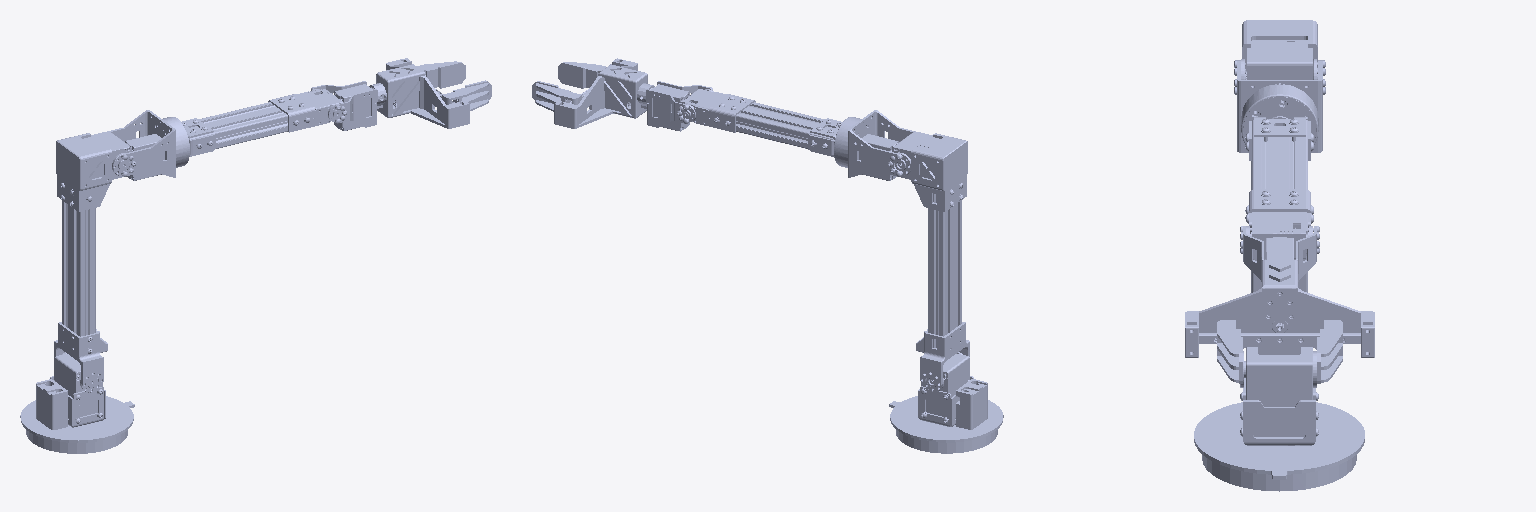
URDF robot description (cello_description):
<?xml version="1.0" encoding="utf-8"?>
<!-- This URDF was automatically created by SolidWorks to URDF Exporter! Originally created by [author] ([email redacted]) 
     Commit Version: 1.6.0-4-g7f85cfe  Build Version: 1.6.7995.38578
     For more information, please see http://wiki.ros.org/sw_urdf_exporter -->
<robot
  name="cello_description">
      <!-- 添加虚拟根链接 -->
  <link name="leader_frame"/>

  <!-- 添加固定关节 -->
  <joint name="lf_to_base" type="fixed">
    <parent link="leader_frame"/>
    <child link="base_link"/>
    <origin xyz="0 0 0" rpy="0 0 0"/>
  </joint>
  <link
    name="base_link">
    <inertial>
      <origin
        xyz="-0.0185665958404603 0.000316871997730457 0.0207703344124258"
        rpy="0 0 0" />
      <mass
        value="0.860146104012974" />
      <inertia
        ixx="0.00164232799354085"
        ixy="-1.59502029846143E-06"
        ixz="6.71840186611878E-06"
        iyy="0.00170608787386237"
        iyz="-2.52071114190922E-06"
        izz="0.00312628775872308" />
    </inertial>
    <visual>
      <origin
        xyz="0 0 0"
        rpy="0 0 0" />
      <geometry>
        <mesh
          filename="package://cello_description/meshes/base_link.STL" />
      </geometry>
      <material
        name="">
        <color
          rgba="0.79216 0.81961 0.93333 1" />
      </material>
    </visual>
    <collision>
      <origin
        xyz="0 0 0"
        rpy="0 0 0" />
      <geometry>
        <mesh
          filename="package://cello_description/meshes/base_link.STL" />
      </geometry>
    </collision>
  </link>
  <link
    name="link1">
    <inertial>
      <origin
        xyz="-0.00293659514388736 -0.000166267230976034 0.0304852649924009"
        rpy="0 0 0" />
      <mass
        value="0.21149263410611" />
      <inertia
        ixx="0.000143717201104114"
        ixy="3.66663819476992E-08"
        ixz="-1.62979838275744E-07"
        iyy="0.000130150440516928"
        iyz="2.18212572705133E-07"
        izz="0.000192189810714277" />
    </inertial>
    <visual>
      <origin
        xyz="0 0 0"
        rpy="0 0 0" />
      <geometry>
        <mesh
          filename="package://cello_description/meshes/link1.STL" />
      </geometry>
      <material
        name="">
        <color
          rgba="0.792156862745098 0.819607843137255 0.933333333333333 1" />
      </material>
    </visual>
    <collision>
      <origin
        xyz="0 0 0"
        rpy="0 0 0" />
      <geometry>
        <mesh
          filename="package://cello_description/meshes/link1.STL" />
      </geometry>
    </collision>
  </link>
  <joint
    name="joint1"
    type="revolute">
    <origin
      xyz="0 0 0.0635"
      rpy="0 0 0" />
    <parent
      link="base_link" />
    <child
      link="link1" />
    <axis
      xyz="0 0 -1" />
    <limit
      lower="-2.27"
      upper="2.27"
      effort="100"
      velocity="1" />
  </joint>
  <link
    name="link2">
    <inertial>
      <origin
        xyz="0.189226589139135 -0.0113695378695626 -1.6404195814043E-05"
        rpy="0 0 0" />
      <mass
        value="0.226428575799244" />
      <inertia
        ixx="9.22325814551319E-05"
        ixy="-3.05844203290063E-07"
        ixz="3.3911611831782E-08"
        iyy="0.000275608542120228"
        iyz="1.47692248123962E-07"
        izz="0.000266467551887347" />
    </inertial>
    <visual>
      <origin
        xyz="0 0 0"
        rpy="0 0 0" />
      <geometry>
        <mesh
          filename="package://cello_description/meshes/link2.STL" />
      </geometry>
      <material
        name="">
        <color
          rgba="0.792156862745098 0.819607843137255 0.933333333333333 1" />
      </material>
    </visual>
    <collision>
      <origin
        xyz="0 0 0"
        rpy="0 0 0" />
      <geometry>
        <mesh
          filename="package://cello_description/meshes/link2.STL" />
      </geometry>
    </collision>
  </link>
  <joint
    name="joint2"
    type="revolute">
    <origin
      xyz="0.00220000000000002 0 0.0638"
      rpy="1.5707963267949 -1.5707963267949 0" />
    <parent
      link="link1" />
    <child
      link="link2" />
    <axis
      xyz="0 0 -1" />
    <limit
      lower="-1.57"
      upper="1.57"
      effort="100"
      velocity="1" />
  </joint>
  <link
    name="link3">
    <inertial>
      <origin
        xyz="0.0611057027698938 -0.00285373563465835 -0.000308179387542536"
        rpy="0 0 0" />
      <mass
        value="0.0623016674269844" />
      <inertia
        ixx="3.27641771814371E-05"
        ixy="1.36991125224236E-07"
        ixz="5.03629347294518E-11"
        iyy="2.8138233772221E-05"
        iyz="-2.07089691935365E-12"
        izz="2.00711122359931E-05" />
    </inertial>
    <visual>
      <origin
        xyz="0 0 0"
        rpy="0 0 0" />
      <geometry>
        <mesh
          filename="package://cello_description/meshes/link3.STL" />
      </geometry>
      <material
        name="">
        <color
          rgba="0.792156862745098 0.819607843137255 0.933333333333333 1" />
      </material>
    </visual>
    <collision>
      <origin
        xyz="0 0 0"
        rpy="0 0 0" />
      <geometry>
        <mesh
          filename="package://cello_description/meshes/link3.STL" />
      </geometry>
    </collision>
  </link>
  <joint
    name="joint3"
    type="revolute">
    <origin
      xyz="0.2476 -0.0396 0"
      rpy="0 0 -1.5708" />
    <parent
      link="link2" />
    <child
      link="link3" />
    <axis
      xyz="0 0 -1" />
    <limit
      lower="-1.57"
      upper="1.57"
      effort="100"
      velocity="1" />
  </joint>
  <link
    name="link4">
    <inertial>
      <origin
        xyz="0.000745555247011143 -0.000138360041998189 -0.106220756274278"
        rpy="0 0 0" />
      <mass
        value="0.0831858188735885" />
      <inertia
        ixx="0.000102578634806798"
        ixy="3.36167527477378E-08"
        ixz="1.6014343413356E-07"
        iyy="9.27604150962016E-05"
        iyz="9.03345793296017E-09"
        izz="1.82817305345178E-05" />
    </inertial>
    <visual>
      <origin
        xyz="0 0 0"
        rpy="0 0 0" />
      <geometry>
        <mesh
          filename="package://cello_description/meshes/link4.STL" />
      </geometry>
      <material
        name="">
        <color
          rgba="0.792156862745098 0.819607843137255 0.933333333333333 1" />
      </material>
    </visual>
    <collision>
      <origin
        xyz="0 0 0"
        rpy="0 0 0" />
      <geometry>
        <mesh
          filename="package://cello_description/meshes/link4.STL" />
      </geometry>
    </collision>
  </link>
  <joint
    name="joint4"
    type="revolute">
    <origin
      xyz="0.267124999999999 -0.00308000000000425 0"
      rpy="1.5707963267949 0 1.5707963267949" />
    <parent
      link="link3" />
    <child
      link="link4" />
    <axis
      xyz="0 0 -1" />
    <limit
      lower="-2.27"
      upper="2.27"
      effort="100"
      velocity="1" />
  </joint>
  <link
    name="link5">
    <inertial>
      <origin
        xyz="-0.00767914962421362 -0.030181521070214 -0.00029872886431521"
        rpy="0 0 0" />
      <mass
        value="0.0181852018389062" />
      <inertia
        ixx="4.56965782990531E-06"
        ixy="-6.955617524318E-07"
        ixz="-2.59810714053144E-13"
        iyy="4.73221658107135E-06"
        iyz="-5.08961649687371E-11"
        izz="4.79023492543246E-06" />
    </inertial>
    <visual>
      <origin
        xyz="0 0 0"
        rpy="0 0 0" />
      <geometry>
        <mesh
          filename="package://cello_description/meshes/link5.STL" />
      </geometry>
      <material
        name="">
        <color
          rgba="0.792156862745098 0.819607843137255 0.933333333333333 1" />
      </material>
    </visual>
    <collision>
      <origin
        xyz="0 0 0"
        rpy="0 0 0" />
      <geometry>
        <mesh
          filename="package://cello_description/meshes/link5.STL" />
      </geometry>
    </collision>
  </link>
  <joint
    name="joint5"
    type="revolute">
    <origin
      xyz="0 0 0"
      rpy="-1.5707963267949 0 0" />
    <parent
      link="link4" />
    <child
      link="link5" />
    <axis
      xyz="0 0 -1" />
    <limit
      lower="-1.57"
      upper="1.57"
      effort="100"
      velocity="1" />
  </joint>
  <link
    name="link6">
    <inertial>
      <origin
        xyz="-0.000329475027203992 0.00742369665426901 -0.0656755875584047"
        rpy="0 0 0" />
      <mass
        value="0.0539231941559604" />
      <inertia
        ixx="2.73524846835263E-05"
        ixy="-5.11378434619854E-08"
        ixz="-5.38863543981375E-08"
        iyy="8.14363187419384E-05"
        iyz="-3.75607498934119E-06"
        izz="7.03066761474059E-05" />
    </inertial>
    <visual>
      <origin
        xyz="0 0 0"
        rpy="0 0 0" />
      <geometry>
        <mesh
          filename="package://cello_description/meshes/link6.STL" />
      </geometry>
      <material
        name="">
        <color
          rgba="0.792156862745098 0.819607843137255 0.933333333333333 1" />
      </material>
    </visual>
    <collision>
      <origin
        xyz="0 0 0"
        rpy="0 0 0" />
      <geometry>
        <mesh
          filename="package://cello_description/meshes/link6.STL" />
      </geometry>
    </collision>
  </link>
  <joint
    name="joint6"
    type="revolute">
    <origin
      xyz="-0.00132500000000002 -0.170658355416465 0"
      rpy="1.5707963267949 -1.5707963267949 0" />
    <parent
      link="link5" />
    <child
      link="link6" />
    <axis
      xyz="0 0 -1" />
    <limit
      lower="-2.27"
      upper="2.27"
      effort="100"
      velocity="1" />
  </joint>
    <link
    name="link7_left">
    <inertial>
      <origin
        xyz="4.33087985037828E-05 -0.0210288805335849 0.032103054040318"
        rpy="0 0 0" />
      <mass
        value="0.0118967398398553" />
      <inertia
        ixx="1.53554000943577E-06"
        ixy="-6.15488946521603E-11"
        ixz="1.11598914157963E-22"
        iyy="8.5835663413382E-07"
        iyz="2.09480277751459E-07"
        izz="1.93904913603243E-06" />
    </inertial>
    <visual>
      <origin
        xyz="0 0 0"
        rpy="0 0 0" />
      <geometry>
        <mesh
          filename="package://cello_description/meshes/link7_left.STL" />
      </geometry>
      <material
        name="">
        <color
          rgba="0.792156862745098 0.819607843137255 0.933333333333333 1" />
      </material>
    </visual>
    <collision>
      <origin
        xyz="0 0 0"
        rpy="0 0 0" />
      <geometry>
        <mesh
          filename="package://cello_description/meshes/link7_left.STL" />
      </geometry>
    </collision>
  </link>
  <joint
    name="joint7_left"
    type="prismatic">
    <origin
      xyz="0 0.0136874999999999 0"
      rpy="1.5707963267949 0 -1.5707963267949" />
    <parent
      link="link6" />
    <child
      link="link7_left" />
    <axis
      xyz="0 0 1" />
    <limit
      lower="-0.025"
      upper="0"
      effort="5"
      velocity="3.14" />
  </joint>
  <link
    name="link7_right">
    <inertial>
      <origin
        xyz="-4.33087985039493E-05 -0.0210288805335849 -0.0312030540403159"
        rpy="0 0 0" />
      <mass
        value="0.0118967398398553" />
      <inertia
        ixx="1.53554000943577E-06"
        ixy="6.15488946515676E-11"
        ixz="9.36189170111426E-23"
        iyy="8.58356634133819E-07"
        iyz="-2.09480277751459E-07"
        izz="1.93904913603243E-06" />
    </inertial>
    <visual>
      <origin
        xyz="0 0 0"
        rpy="0 0 0" />
      <geometry>
        <mesh
          filename="package://cello_description/meshes/link7_right.STL" />
      </geometry>
      <material
        name="">
        <color
          rgba="0.792156862745098 0.819607843137255 0.933333333333333 1" />
      </material>
    </visual>
    <collision>
      <origin
        xyz="0 0 0"
        rpy="0 0 0" />
      <geometry>
        <mesh
          filename="package://cello_description/meshes/link7_right.STL" />
      </geometry>
    </collision>
  </link>
  <joint
    name="joint7_right"
    type="prismatic">
    <origin
      xyz="0 0.0136874999999999 0"
      rpy="1.5707963267949 0 -1.5707963267949" />
    <parent
      link="link6" />
    <child
      link="link7_right" />
    <axis
      xyz="0 0 -1" />
    <limit
      lower="-0.025"
      upper="0"
      effort="5"
      velocity="3.14" />
    <mimic joint="joint7_left" />
  </joint>
</robot>

--- Facts derived from the render (not from the file) ---
3 views of the same robot in one strip: view 1: azimuth 30°, elevation 25°; view 2: azimuth 150°, elevation 25°; view 3: azimuth 270°, elevation 25° (orthographic).
Robot: cello_description — 10 links, 9 joints (6 revolute, 2 prismatic, 1 fixed); root link leader_frame; default pose: all joints at 0.
Visible links, largest first — view 1: link2, link1, link4, link6, link3, link5, link7_left, link7_right; view 2: link2, link1, link4, link6, link3, link5, link7_right, link7_left; view 3: link1, link6, link4, link2, link3, link5, link7_right, link7_left.
Boxes of the visible links, x1,y1,x2,y2 form: link2: [54, 131, 131, 386]; link1: [20, 352, 134, 453]; link4: [181, 89, 342, 156]; link6: [369, 58, 469, 128]; link3: [110, 110, 189, 180]; link5: [310, 81, 377, 130]; link7_left: [417, 61, 465, 88]; link7_right: [442, 80, 491, 110]; link2: [892, 131, 969, 386]; link1: [889, 352, 1003, 453]; link4: [681, 89, 842, 156]; link6: [554, 58, 654, 128]; link3: [834, 110, 913, 180]; link5: [646, 81, 713, 131]; link7_right: [558, 62, 605, 88]; link7_left: [532, 81, 581, 111]; link1: [1194, 347, 1364, 491]; link6: [1185, 260, 1374, 357]; link4: [1245, 116, 1313, 258]; link2: [1241, 20, 1317, 354]; link3: [1234, 60, 1325, 152]; link5: [1240, 226, 1319, 281]; link7_right: [1217, 320, 1242, 383]; link7_left: [1317, 320, 1342, 383].
Size in the robot's own frame: 0.5586 by 0.135 by 0.3469 metres.
Meshes: 9 distinct files referenced, 8 mesh visuals loaded (8 binary STL); not drawn: 1 (reference not matched to a file when rendering).
